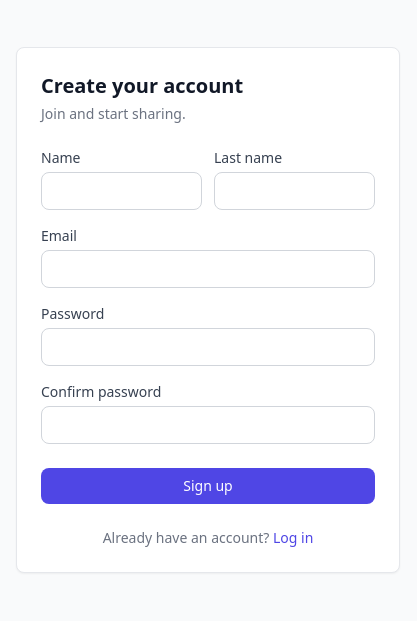
Test: RegisterPage › shows the API error and stays on the page when registration fails
Type "Ada" into the field labelled "Name" at (122, 191), box [41,172,202,210]
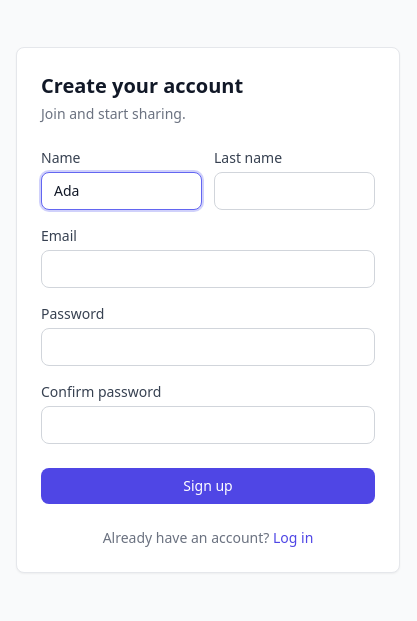
Type "Lovelace" into the field labelled "Last name" at (294, 191), box [214,172,375,210]
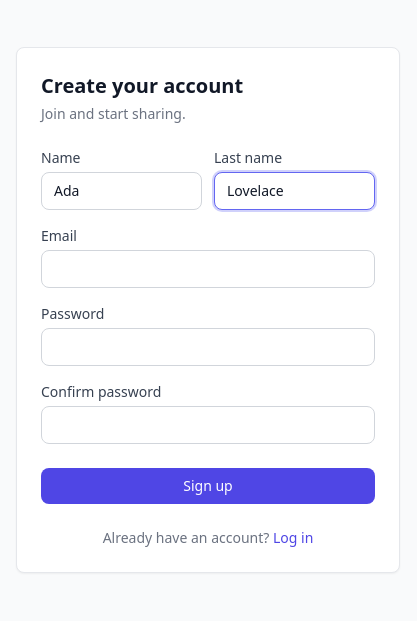
Type "ada@example.com" into the field labelled "Email" at (208, 269), box [41,250,375,288]
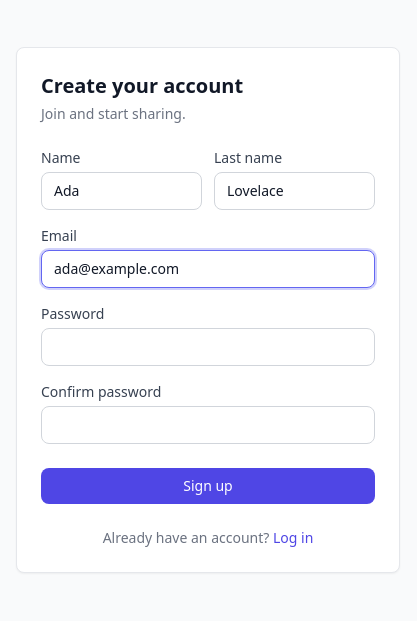
Type "password123" into the password field labelled "Password" at (208, 347), box [41,328,375,366]
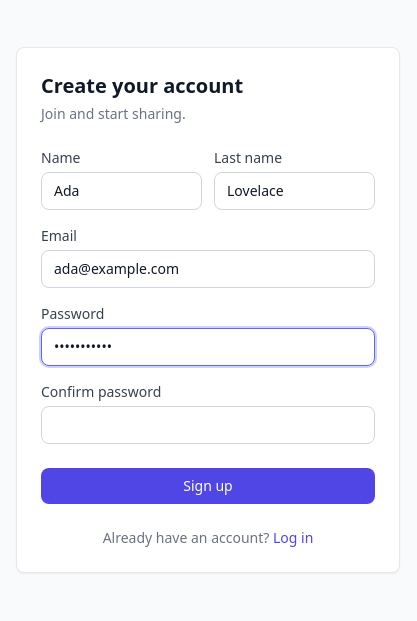
Type "password123" into the password field labelled "Confirm password" at (208, 425), box [41,406,375,444]
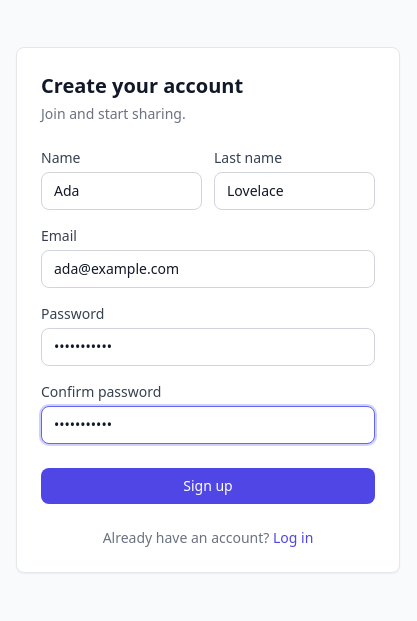
Click the button "Sign up" at (208, 486), box [41,468,375,504]
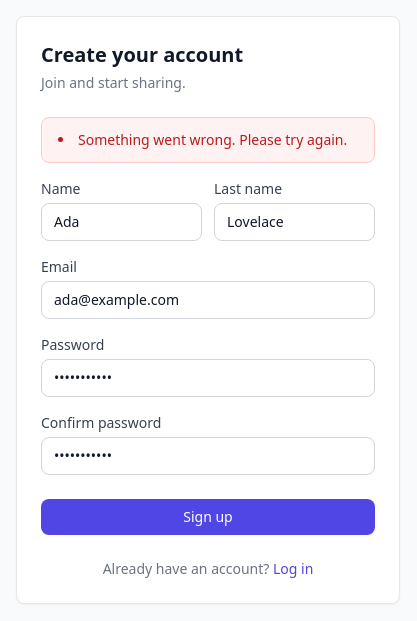
expect the list item "Something went wrong. Please try again." is shown: met, box [58,130,358,150]
